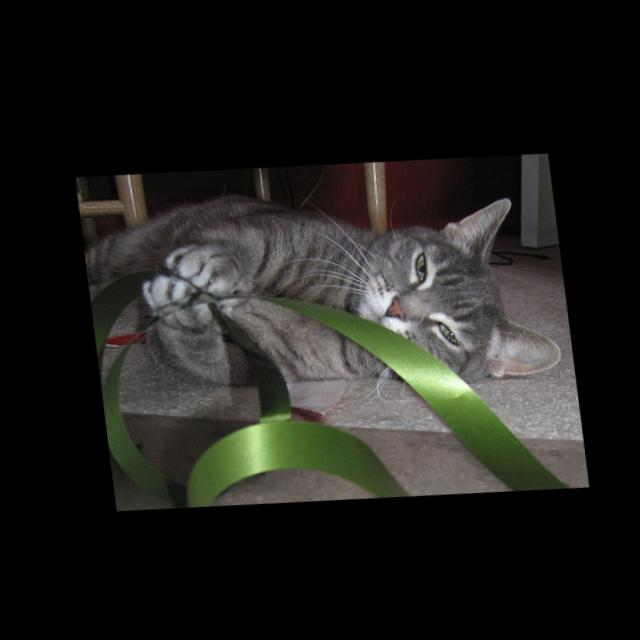animals: (371, 189, 561, 380)
